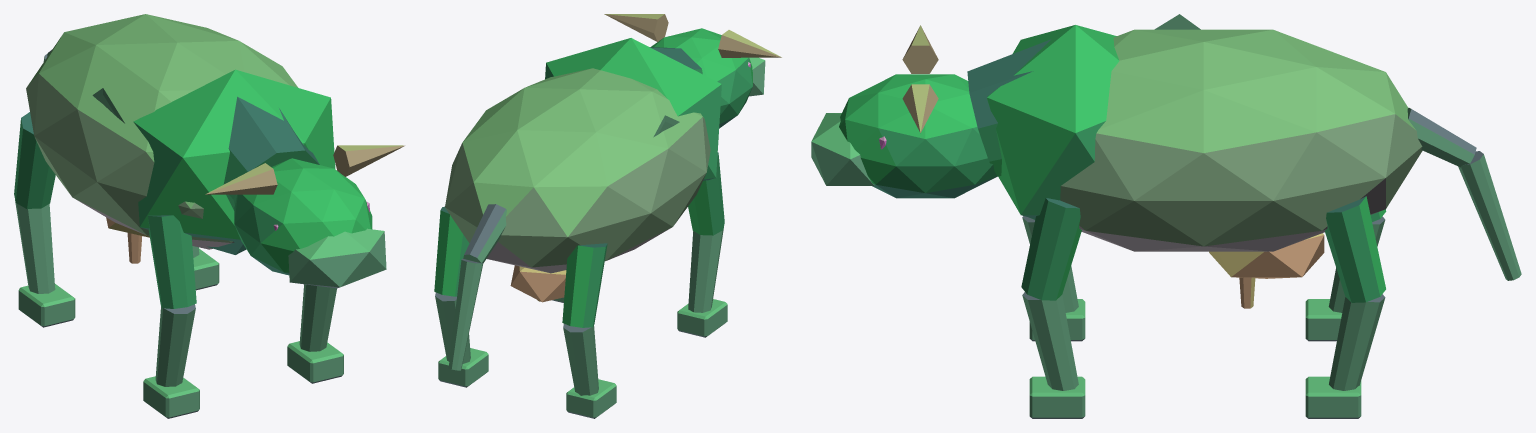
File: creature_cow_contact_a_v01.glb
The picture shows the model from 3 angles, left to right: view 1: azimuth 30°, elevation 25°; view 2: azimuth 150°, elevation 25°; view 3: azimuth 270°, elevation 25°; orthographic projection. The views are drawn at different scales.
Visible parts, largest first — view 1: GEO_creature_cow_contact_a_v01; view 2: GEO_creature_cow_contact_a_v01; view 3: GEO_creature_cow_contact_a_v01.
Part boxes in pixels (x1,y1,x2,y2): GEO_creature_cow_contact_a_v01: (14,14,404,418); GEO_creature_cow_contact_a_v01: (434,14,781,418); GEO_creature_cow_contact_a_v01: (811,14,1521,418).
Bounding box in the file's own units: 1.18 × 1.58 × 2.93.
